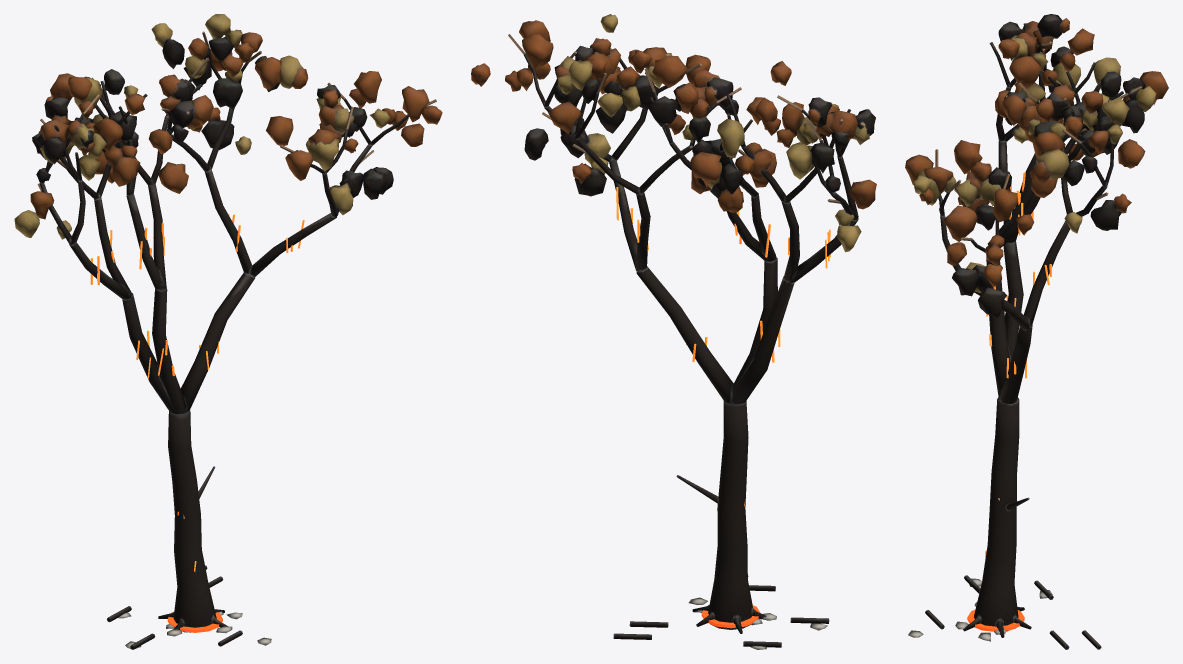
Rendered from gum_tree_burning.glb.
3 views of the same model, side by side, from view 1: azimuth 30°, elevation 25°; view 2: azimuth 150°, elevation 25°; view 3: azimuth 270°, elevation 25° (orthographic). The views are drawn at different scales.
Visible parts, largest first — view 1: gum_tree_burning, gum_tree_burning_glow; view 2: gum_tree_burning, gum_tree_burning_glow; view 3: gum_tree_burning, gum_tree_burning_glow.
Boxes of the visible parts, left/top/right/bottom form: gum_tree_burning: left=14, top=14, right=442, bottom=649; gum_tree_burning_glow: left=90, top=214, right=304, bottom=632; gum_tree_burning: left=471, top=14, right=876, bottom=649; gum_tree_burning_glow: left=616, top=187, right=830, bottom=628; gum_tree_burning: left=905, top=14, right=1168, bottom=649; gum_tree_burning_glow: left=967, top=172, right=1051, bottom=631.
Bounding box in the file's own units: 12.46 × 16.57 × 7.01.
3 materials, 1 textured.
